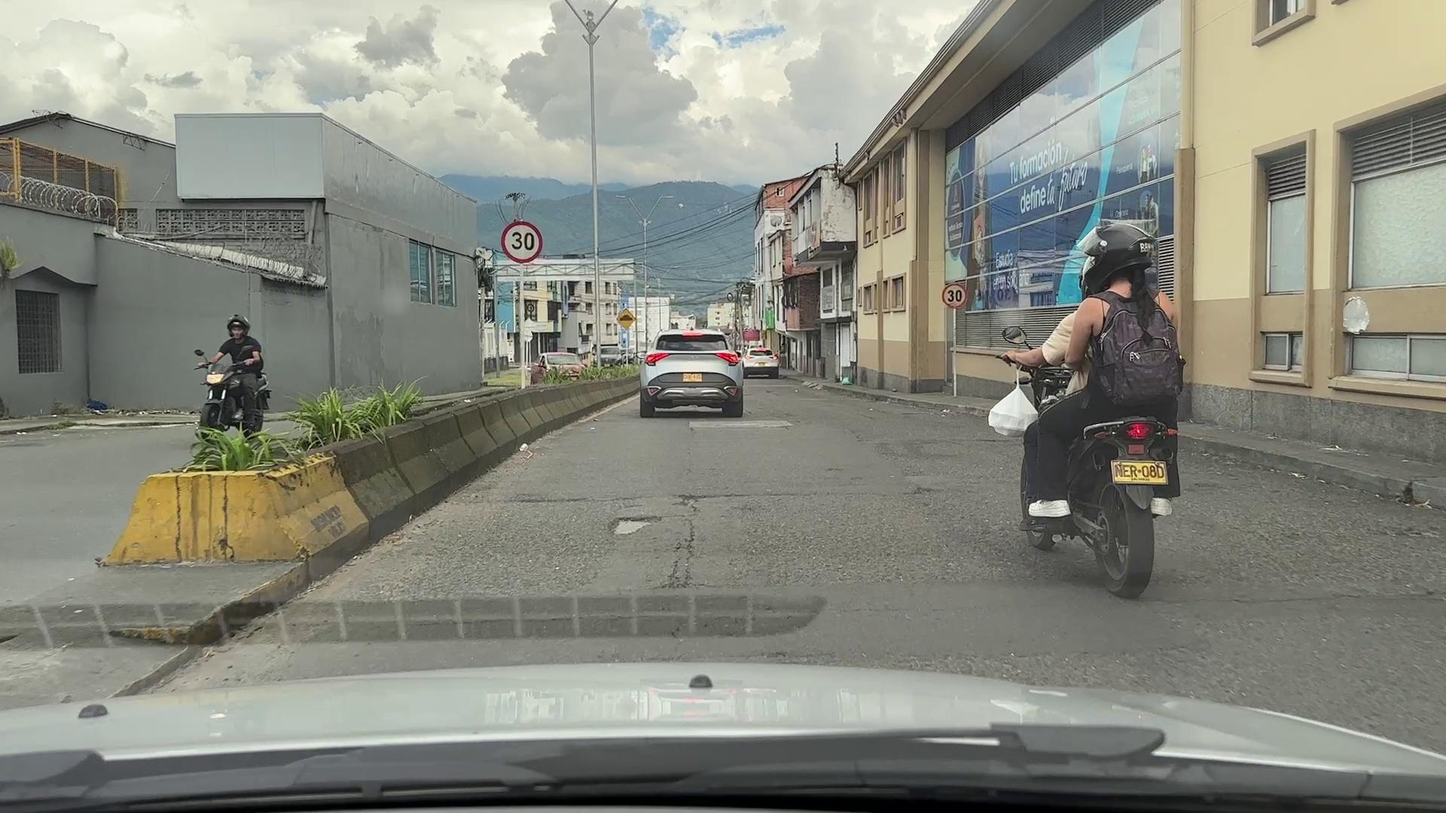bache: (673, 495, 707, 515), (613, 519, 651, 534)
grieta: (655, 519, 702, 589)
